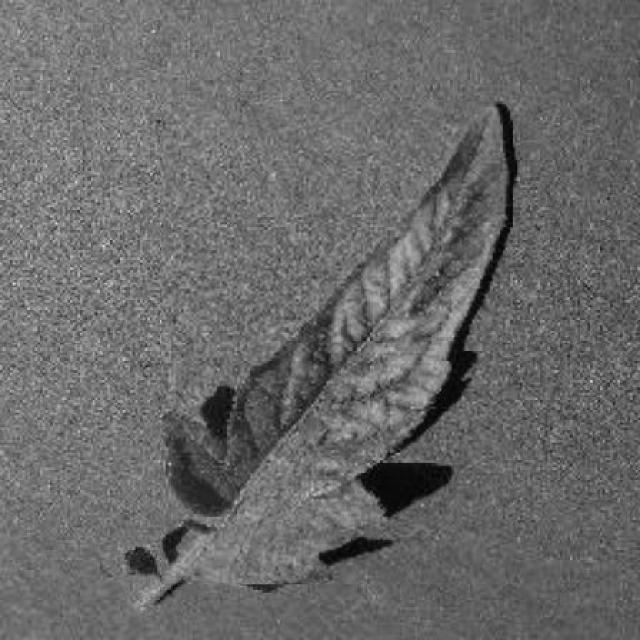Mosaic Virus: (161, 102, 513, 585)
